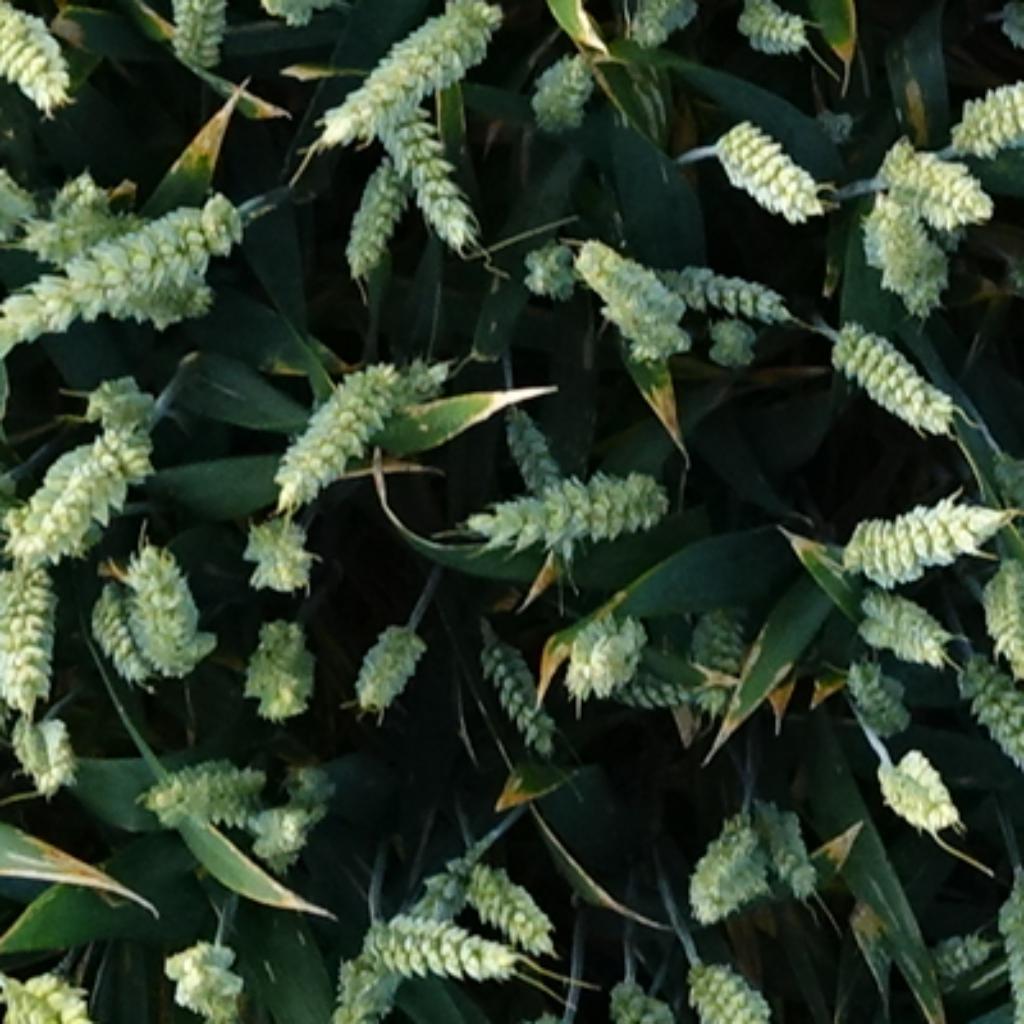0-0: (2, 171, 245, 350), (317, 849, 486, 1024), (263, 347, 437, 509), (322, 0, 506, 138), (7, 407, 156, 555), (463, 453, 678, 550), (371, 87, 486, 263), (829, 485, 1008, 593), (330, 893, 522, 993), (491, 399, 583, 586), (576, 225, 704, 358), (115, 524, 215, 693), (821, 307, 960, 427), (952, 642, 1024, 852), (711, 115, 836, 230), (340, 125, 432, 271), (680, 804, 788, 927), (460, 619, 558, 752), (855, 179, 954, 304), (140, 742, 271, 824), (20, 166, 130, 263), (880, 141, 996, 230), (453, 844, 558, 942), (74, 573, 156, 693), (0, 554, 60, 713), (560, 593, 655, 693), (869, 747, 964, 841), (657, 253, 796, 317), (238, 606, 320, 714), (752, 796, 832, 906), (159, 935, 257, 1024), (0, 0, 76, 113), (2, 939, 102, 1024), (942, 48, 1024, 151), (348, 606, 432, 706), (849, 586, 952, 665), (683, 588, 757, 693), (2, 704, 81, 798), (524, 35, 601, 128), (837, 645, 921, 729), (680, 955, 780, 1024), (238, 501, 317, 586), (913, 911, 995, 988), (81, 366, 166, 435), (586, 675, 716, 719), (243, 801, 320, 875), (156, 0, 238, 64), (990, 860, 1024, 1013), (980, 537, 1024, 650), (596, 967, 675, 1024), (517, 222, 578, 294), (271, 752, 337, 816), (727, 0, 814, 48), (0, 155, 37, 252), (619, 0, 698, 40), (701, 307, 760, 360), (980, 437, 1024, 506), (1008, 504, 1024, 624), (1006, 604, 1024, 706)
